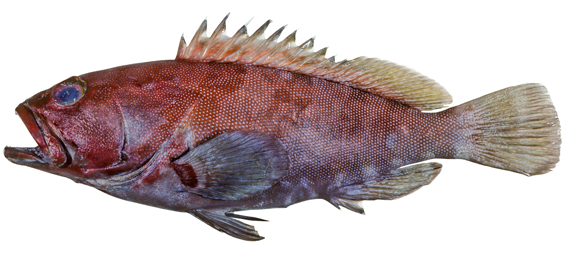fish: (3, 12, 562, 242)
